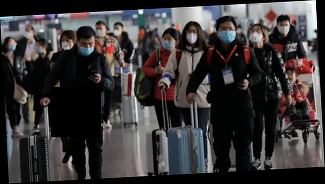with_mask: (219, 25, 237, 45), (248, 27, 264, 45), (78, 41, 96, 56), (186, 28, 199, 45), (161, 35, 174, 51), (60, 38, 72, 51), (278, 23, 291, 35), (95, 25, 105, 39), (34, 44, 44, 55), (8, 40, 17, 52), (23, 29, 32, 40), (113, 26, 122, 36)
without_mask: (286, 71, 297, 85)
